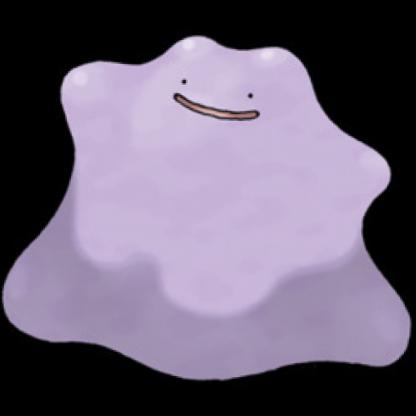Ditto: (1, 10, 416, 416)
